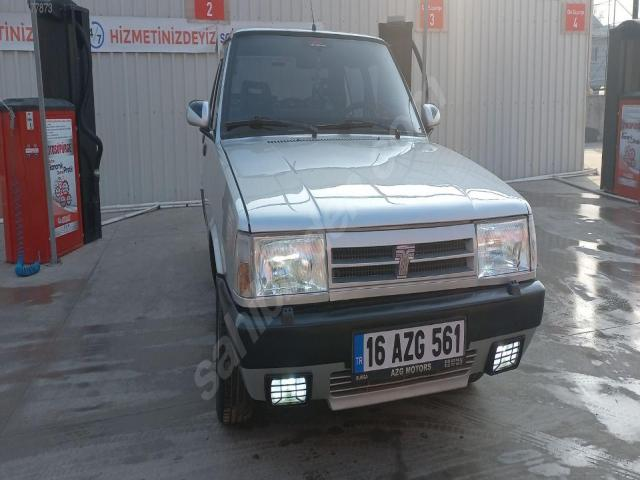plaka: (354, 320, 465, 373)
